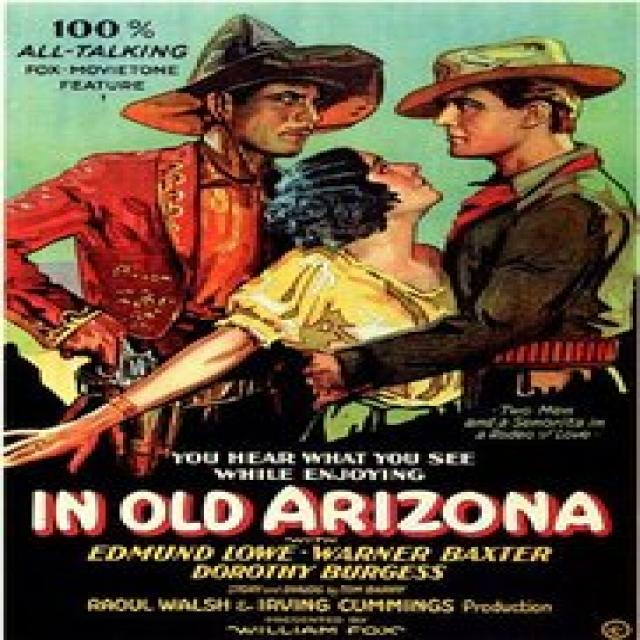movie-judul: (9, 484, 640, 546)
picture: (20, 17, 625, 432)
